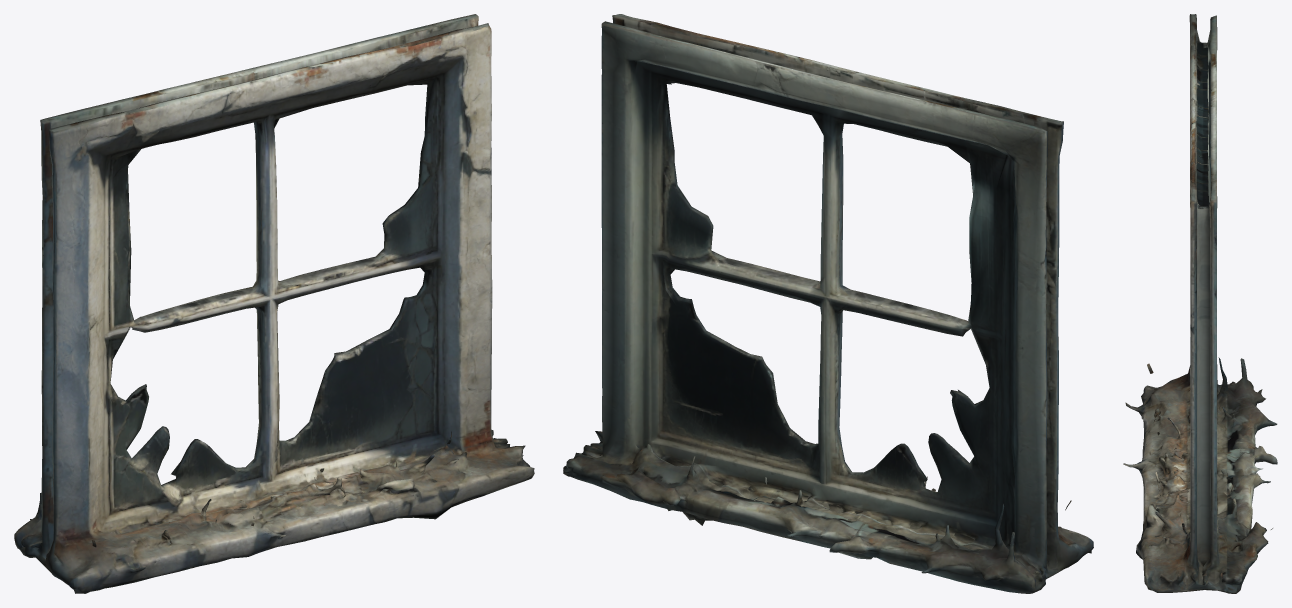
File: A_creepy_broken_windo_0124151636_texture.fbx
3 views of the same model, side by side, from view 1: azimuth 30°, elevation 25°; view 2: azimuth 150°, elevation 25°; view 3: azimuth 270°, elevation 25° (orthographic). The views are drawn at different scales.
Parts seen in each view (by area): view 1: Mesh1_Mesh1.021; view 2: Mesh1_Mesh1.021; view 3: Mesh1_Mesh1.021.
Boxes of the visible parts, <box> form: Mesh1_Mesh1.021: <box>14,14,534,593</box>; Mesh1_Mesh1.021: <box>563,14,1093,593</box>; Mesh1_Mesh1.021: <box>1123,14,1277,593</box>.
Size of the model in its own units: 1090 by 1000 by 353.
Materials: 1 (1 with a texture image).
